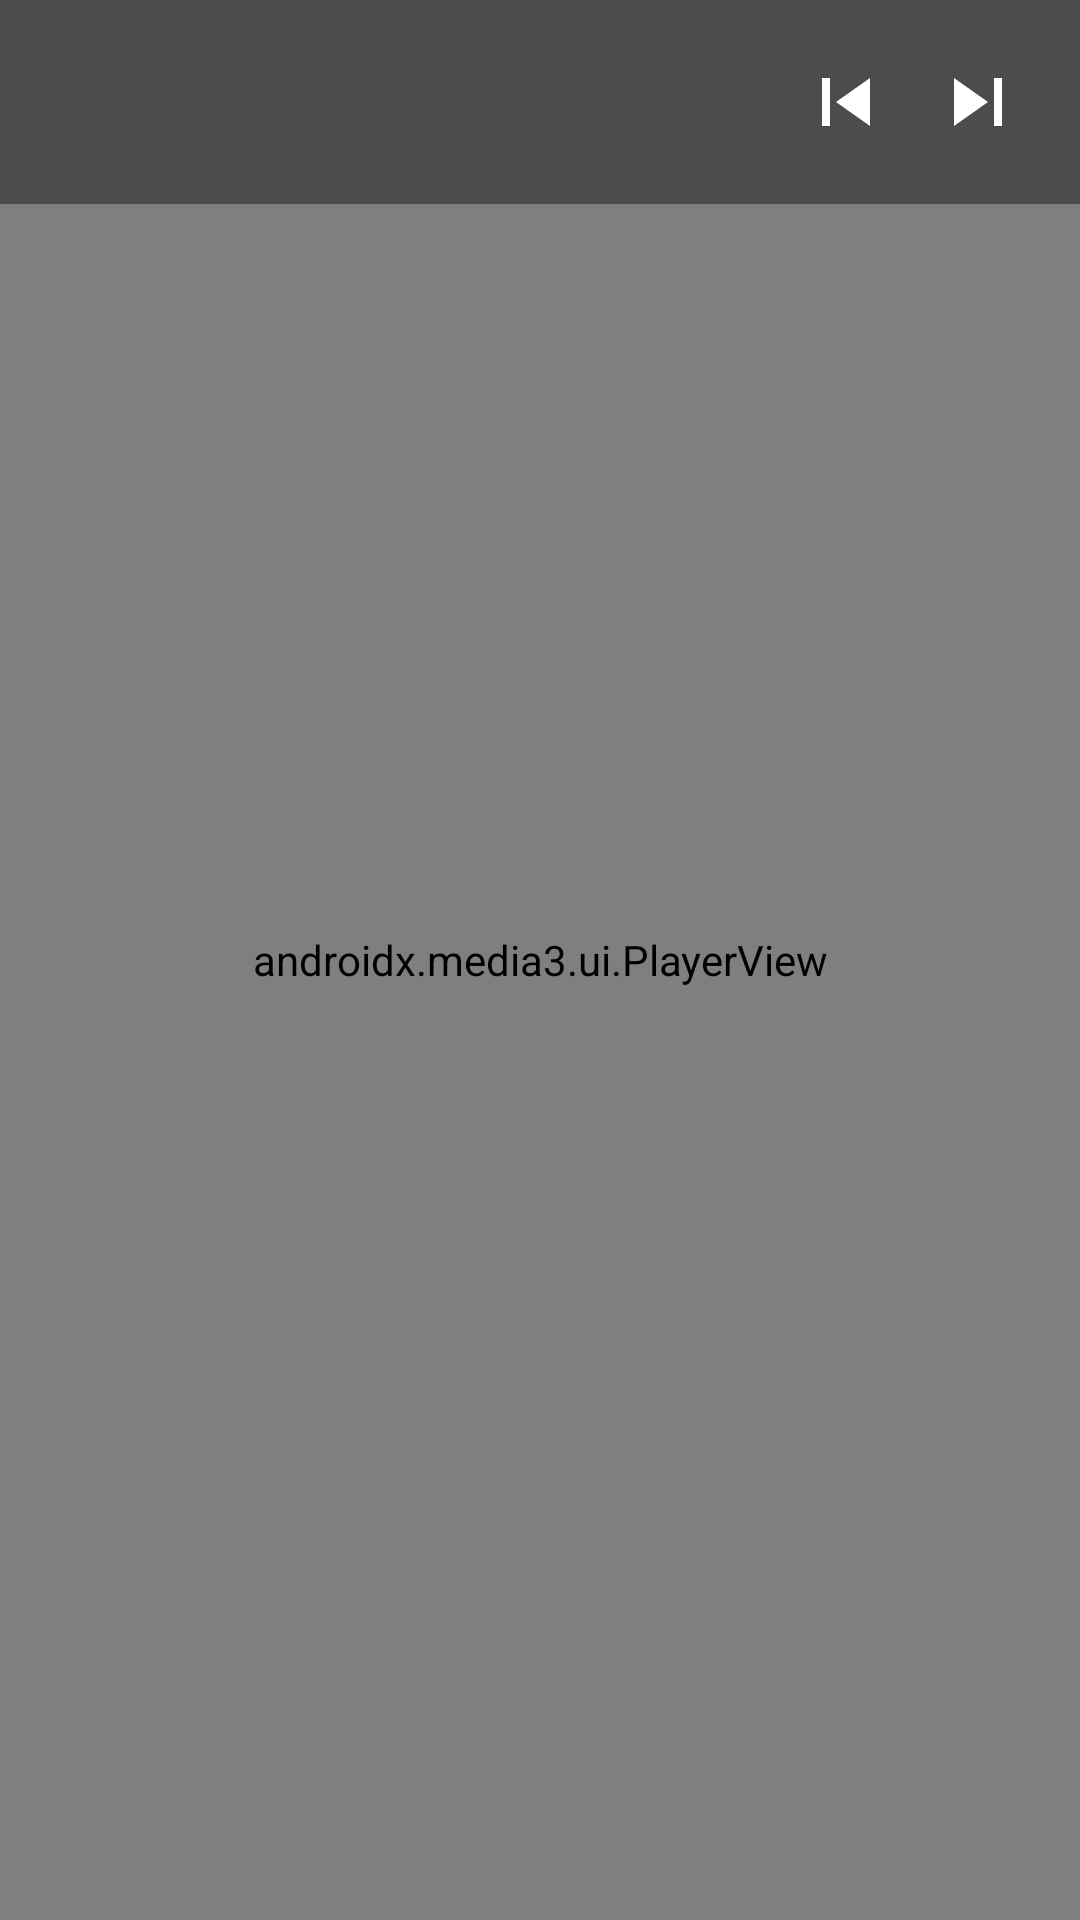

Icon click points for this 1080w x 1920h phone screenshot, format (x=x, y=y):
Canal anterior: (x=846, y=102)
Canal siguiente: (x=978, y=102)
